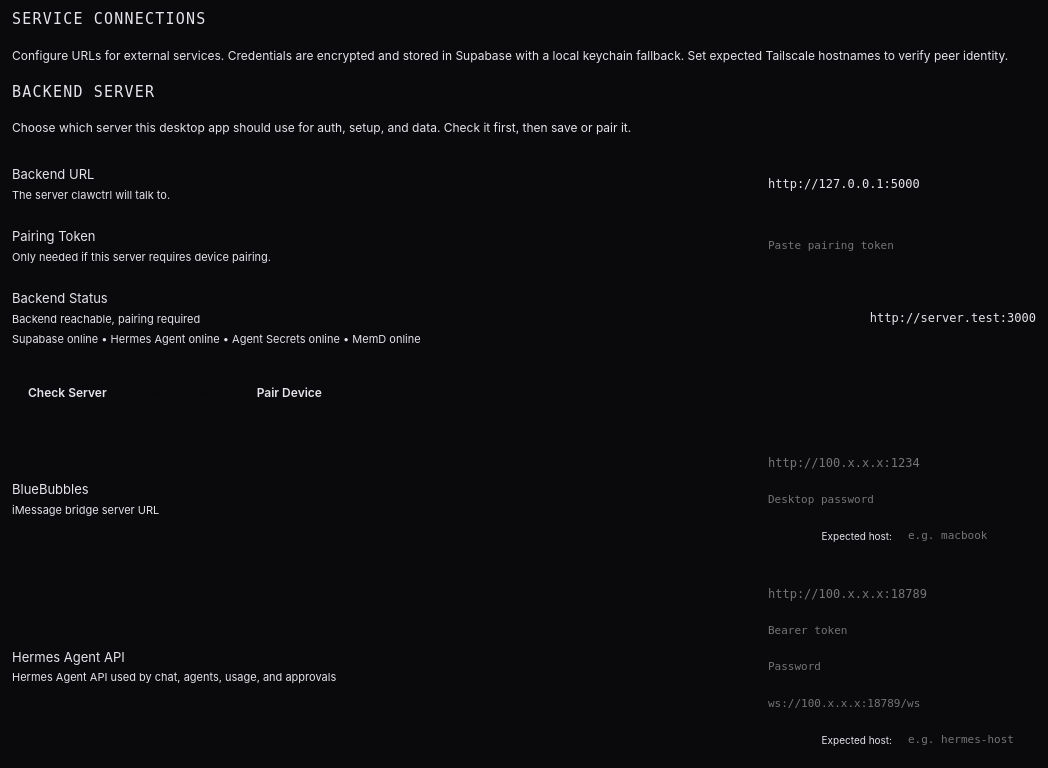
Test: SettingsConnections › pairs the device with the selected backend when pairing is required
Type "pair-token-123" into the password field labelled "pairing token". click: (896, 246)
box: [756, 230, 1036, 262]
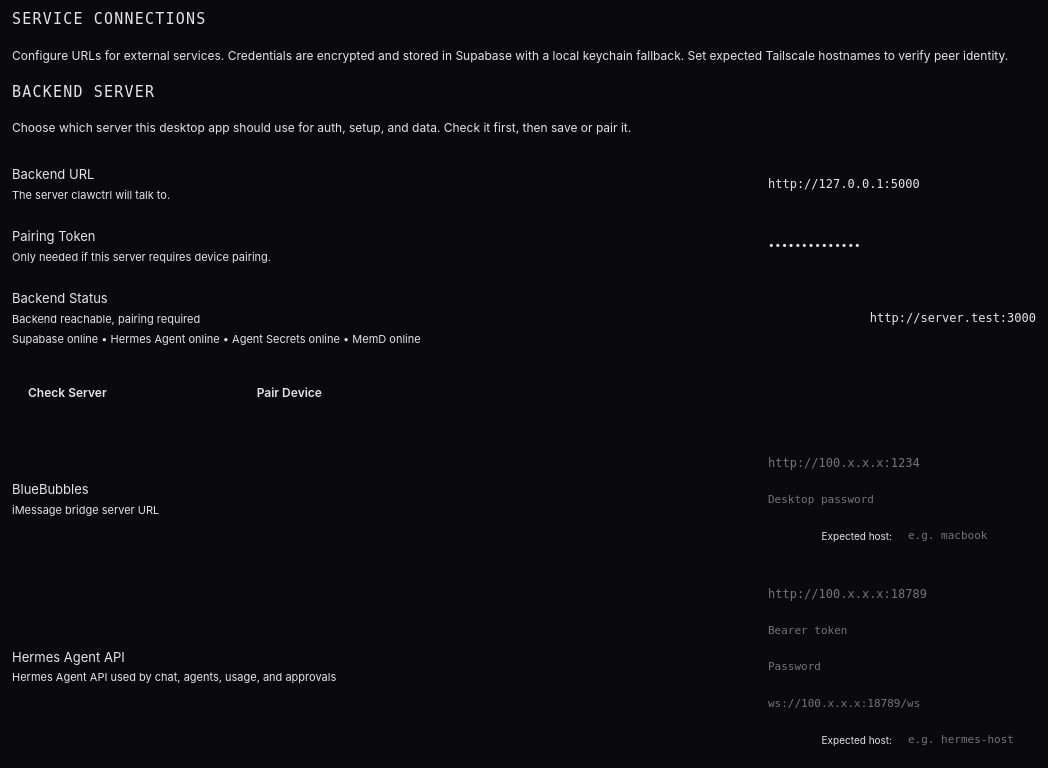
Click the button "Pair Device". click: (289, 392)
box: [241, 376, 338, 410]
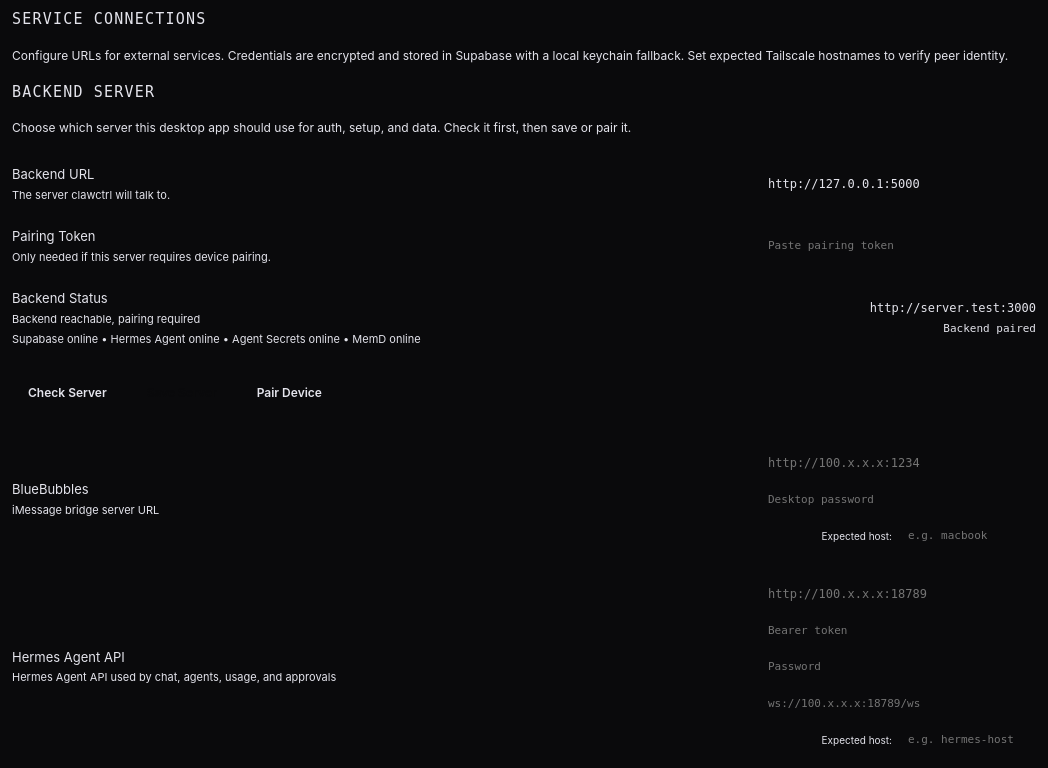
Expected: the text "Backend paired" is shown, [943, 321, 1036, 338]
